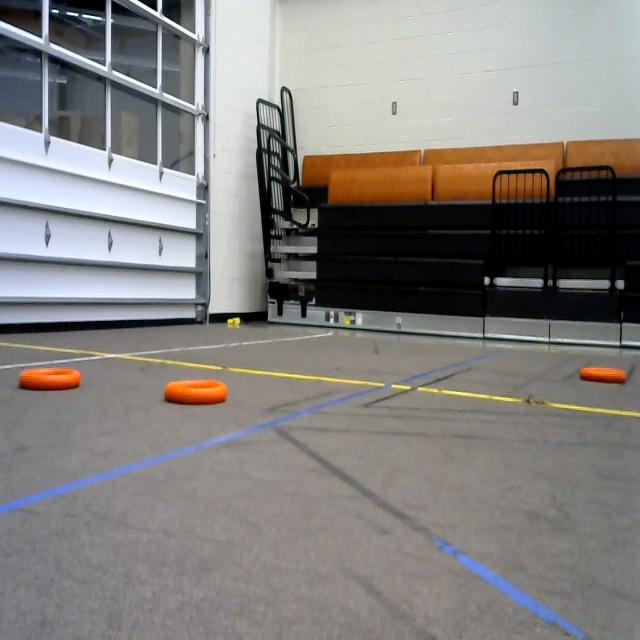note: (160, 368, 242, 415), (568, 348, 632, 389), (16, 362, 85, 398)
